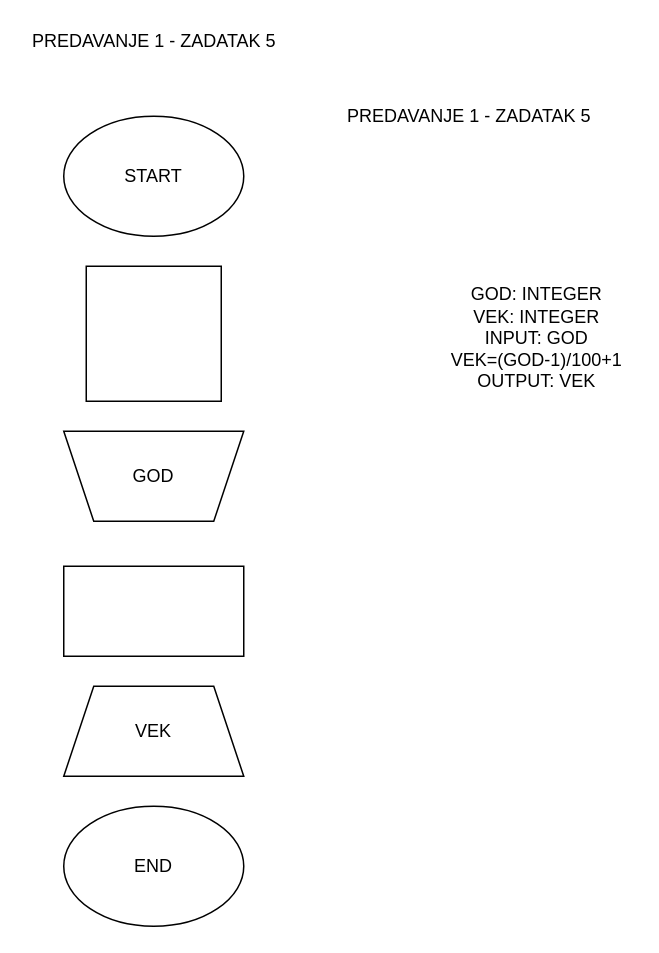
Image size: 659x953. Some labels were removed from this diagram. Each missing label, with the centre of its shape:
"GOD: INTEGER VEK: INTEGER" belongs at point 153,333.
"VEK=(GOD-1)/100+1" belongs at point 153,610.
